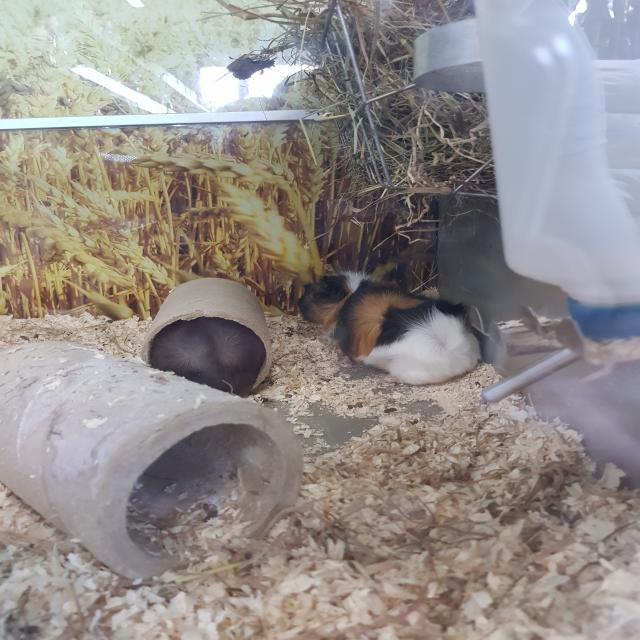guinea pig: (294, 268, 488, 389)
